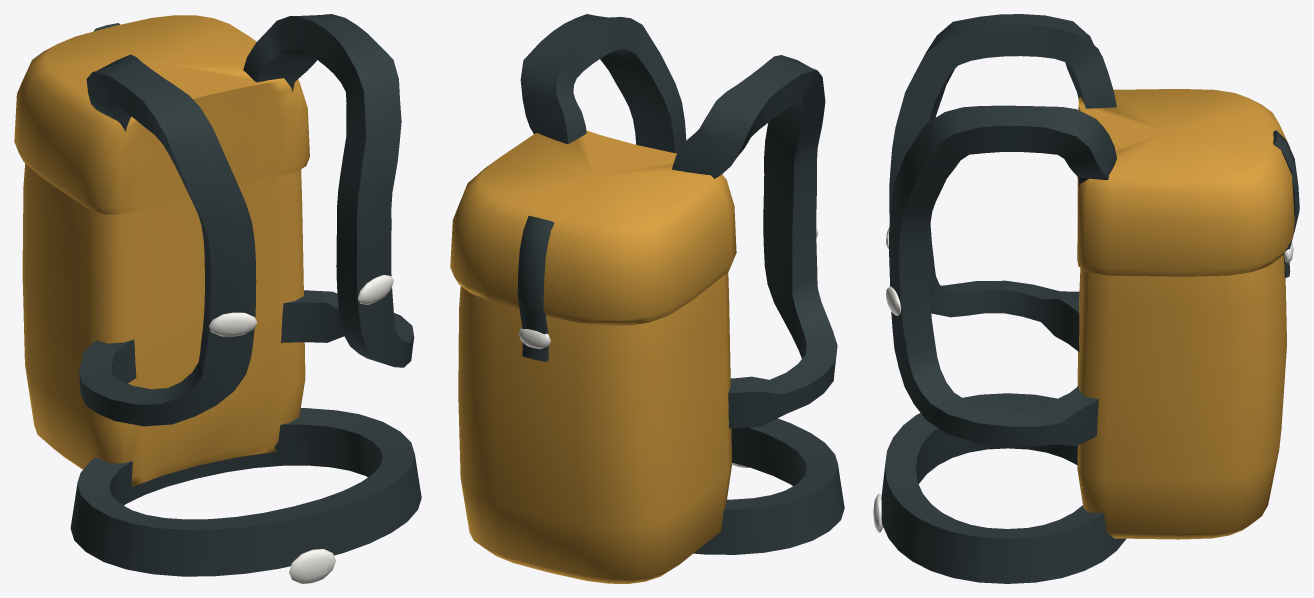
The model's file is gear-backpack.glb.
3 views of the same model, side by side, from view 1: azimuth 30°, elevation 25°; view 2: azimuth 150°, elevation 25°; view 3: azimuth 270°, elevation 25° (orthographic). The views are drawn at different scales.
Visible parts, largest first — view 1: Gear_Backpack; view 2: Gear_Backpack; view 3: Gear_Backpack.
Part boxes in pixels (x1,y1,x2,y2): Gear_Backpack: [14, 14, 421, 583]; Gear_Backpack: [450, 14, 844, 583]; Gear_Backpack: [873, 14, 1299, 583].
Size of the model in its own units: 0.3804 by 0.5443 by 0.4534.
